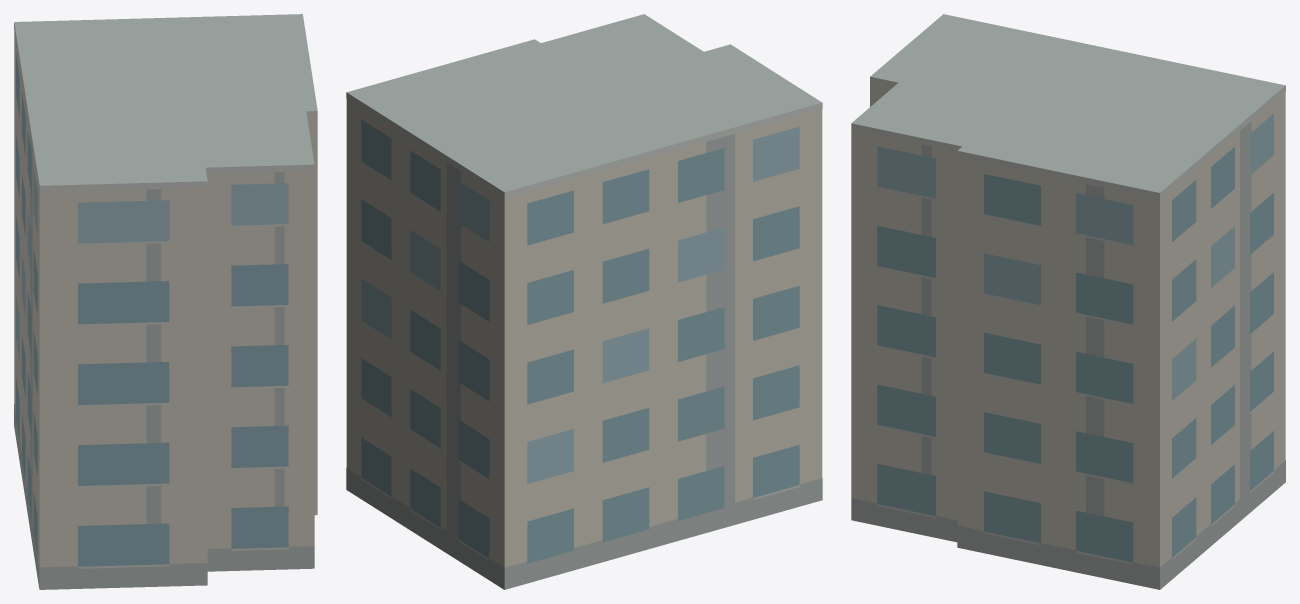
The model's file is residential-5c5855df-e82f-4571-9139-660118f30ea8.glb.
3 renders of one model, left to right at view 1: azimuth 30°, elevation 25°; view 2: azimuth 150°, elevation 25°; view 3: azimuth 270°, elevation 25°, orthographic.
Parts seen in each view (by area): view 1: residential-5c5855df-e82f-4571-9139-660118f30ea8.tmp; view 2: residential-5c5855df-e82f-4571-9139-660118f30ea8.tmp; view 3: residential-5c5855df-e82f-4571-9139-660118f30ea8.tmp.
Boxes of the visible parts, left/top/right/bottom form: residential-5c5855df-e82f-4571-9139-660118f30ea8.tmp: left=14, top=14, right=317, bottom=589; residential-5c5855df-e82f-4571-9139-660118f30ea8.tmp: left=346, top=14, right=822, bottom=589; residential-5c5855df-e82f-4571-9139-660118f30ea8.tmp: left=851, top=14, right=1285, bottom=589.
Bounding box in the file's own units: 14.52 × 15 × 14.89.
